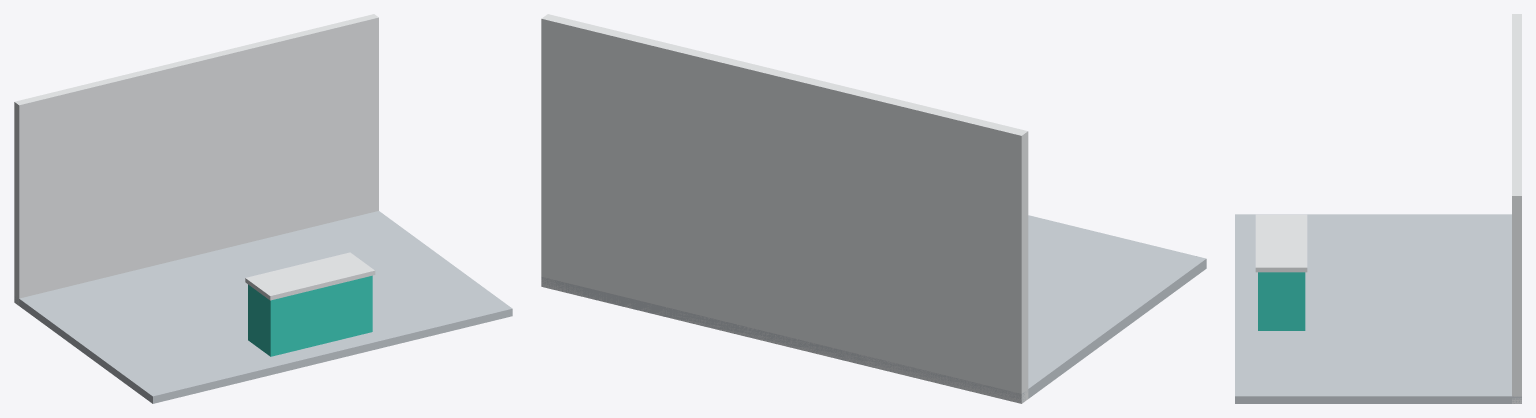
3 renders of one model, left to right at view 1: azimuth 30°, elevation 25°; view 2: azimuth 150°, elevation 25°; view 3: azimuth 270°, elevation 25°, orthographic. The views are drawn at different scales.
Parts seen in each view (by area): view 1: Exhibition Booth Concept; view 2: Exhibition Booth Concept; view 3: Exhibition Booth Concept.
Part boxes in pixels (left/top/right/bottom): Exhibition Booth Concept: left=14, top=14, right=512, bottom=403; Exhibition Booth Concept: left=541, top=14, right=1206, bottom=403; Exhibition Booth Concept: left=1235, top=14, right=1521, bottom=403.
Bounding box in the file's own units: 6 × 3.2 × 4.
